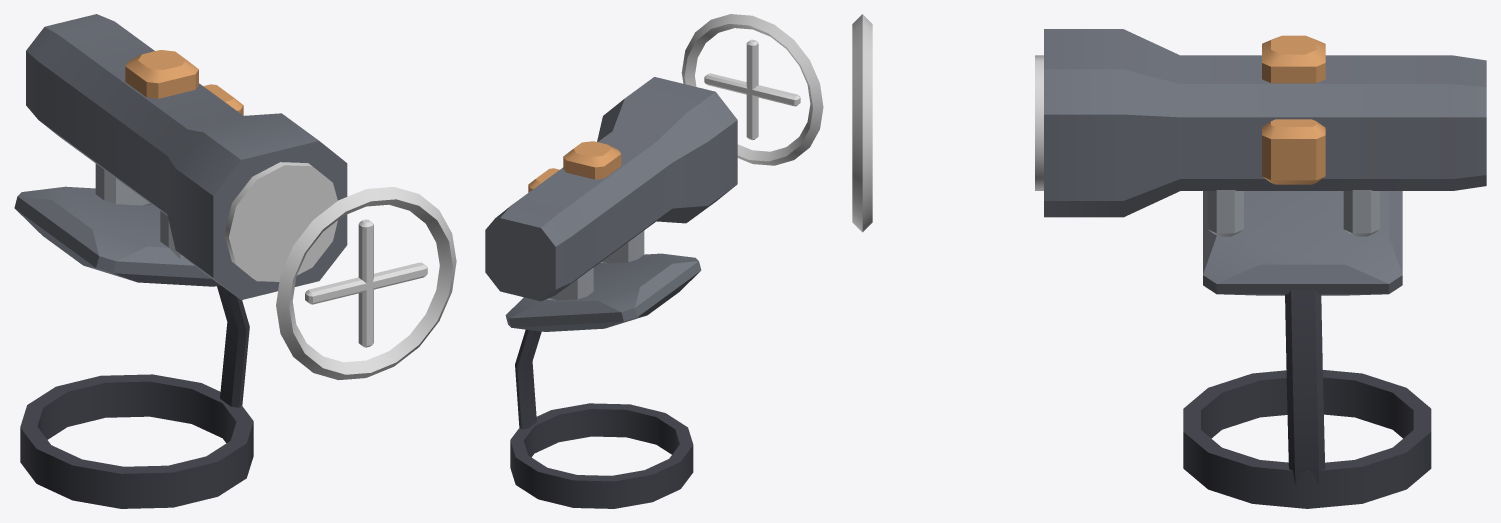
Rendered from gear_cellule.glb.
3 renders of one model, left to right at view 1: azimuth 30°, elevation 25°; view 2: azimuth 150°, elevation 25°; view 3: azimuth 270°, elevation 25°, orthographic. The views are drawn at different scales.
Parts seen in each view (by area): view 1: arm_l__cellule, arm_l__cellule_selle, arm_l__cellule_glow; view 2: arm_l__cellule, arm_l__cellule_selle, arm_l__cellule_glow; view 3: arm_l__cellule, arm_l__cellule_selle, arm_l__cellule_glow.
Part boxes in pixels (x1,y1,x2,y2): arm_l__cellule: (26,14,347,300); arm_l__cellule_selle: (14,186,253,508); arm_l__cellule_glow: (224,162,456,380); arm_l__cellule: (485,77,737,301); arm_l__cellule_selle: (505,253,701,508); arm_l__cellule_glow: (681,14,823,165); arm_l__cellule: (1044,29,1486,236); arm_l__cellule_selle: (1183,191,1431,508); arm_l__cellule_glow: (852,14,1043,232).
Bounding box in the file's own units: 0.1125 × 0.2155 × 0.2795.
